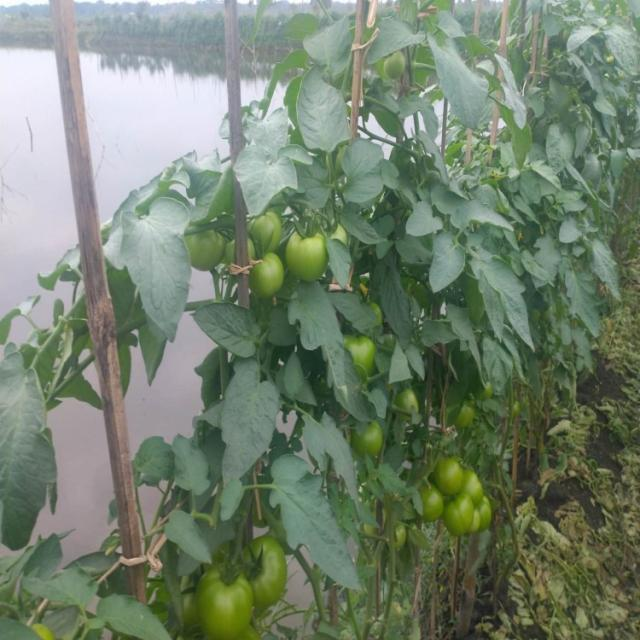tomato: (206, 563, 260, 640), (242, 545, 296, 610), (183, 218, 231, 275), (172, 567, 213, 629), (339, 331, 383, 385), (291, 226, 327, 284), (354, 419, 395, 467), (430, 456, 471, 497), (252, 214, 296, 252), (255, 256, 294, 298), (224, 227, 263, 269), (450, 496, 483, 535), (416, 486, 446, 527), (398, 388, 424, 431), (384, 43, 412, 77), (369, 294, 398, 324), (464, 471, 491, 502), (327, 216, 348, 252), (476, 497, 500, 528), (455, 407, 477, 438), (481, 378, 499, 411), (512, 402, 529, 426)
